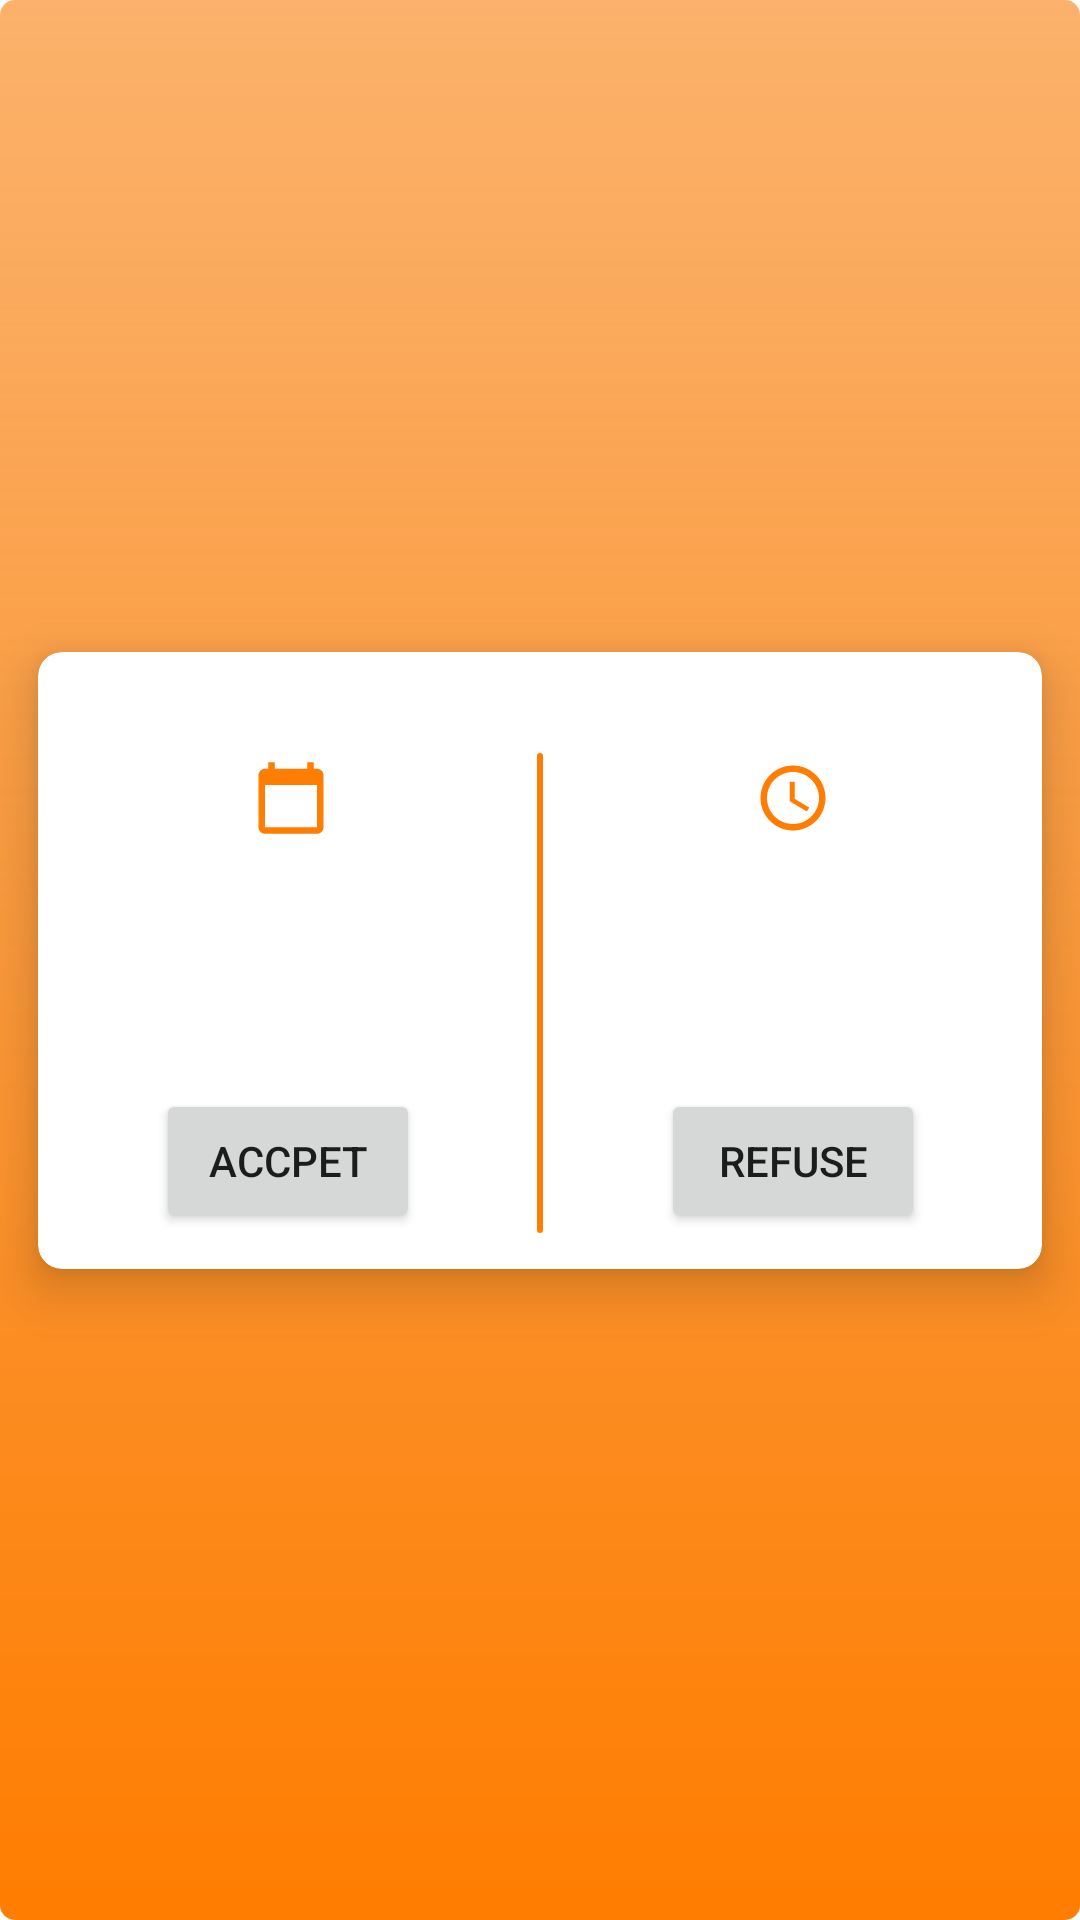

Point at icon controls on the screen. Image size 1080 x 1920, points as (x=x, y=y).
access time: (x=793, y=798)
calendar today: (x=291, y=798)
